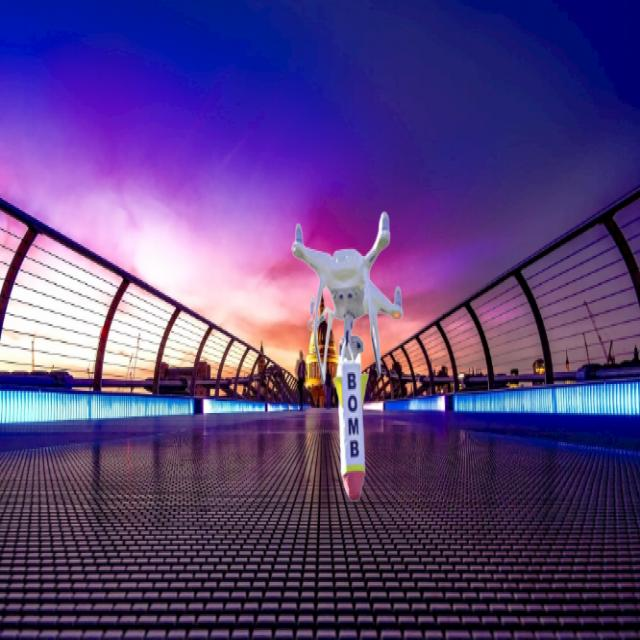drones: (283, 206, 408, 382)
